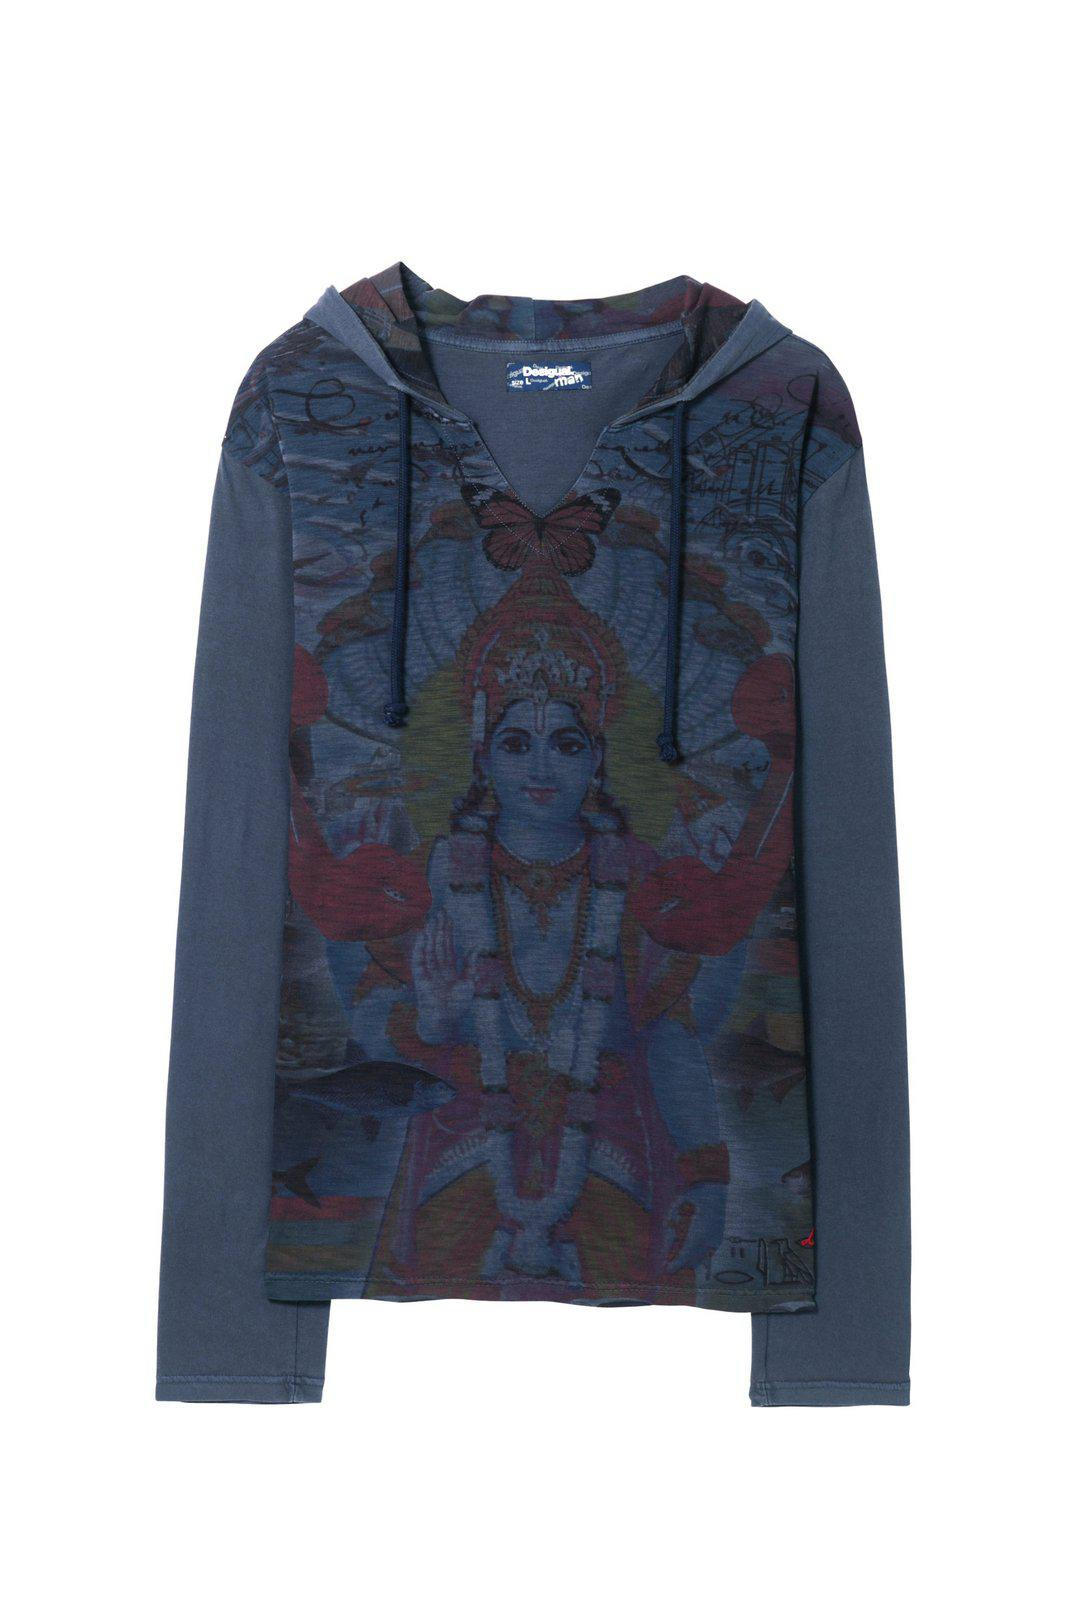teeshirt: (121, 240, 1012, 1432)
